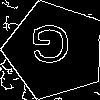G: (30, 25, 71, 72)
